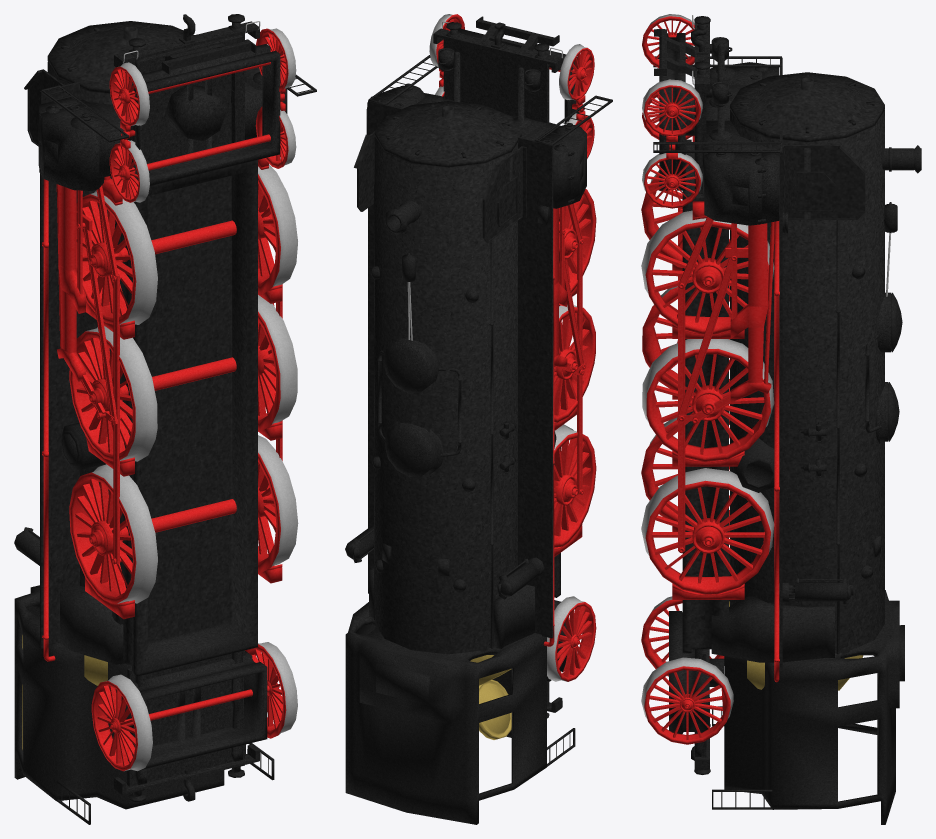
The model's file is OldTrain2.fbx.
3 renders of one model, left to right at view 1: azimuth 30°, elevation 25°; view 2: azimuth 150°, elevation 25°; view 3: azimuth 270°, elevation 25°, orthographic. The views are drawn at different scales.
Visible parts, largest first — view 1: Train.001; view 2: Train.001; view 3: Train.001.
Part boxes in pixels (x1,y1,x2,y2): Train.001: (14, 14, 316, 824); Train.001: (345, 14, 612, 824); Train.001: (641, 14, 921, 824).
Bounding box in the file's own units: 420 × 1387 × 463.
